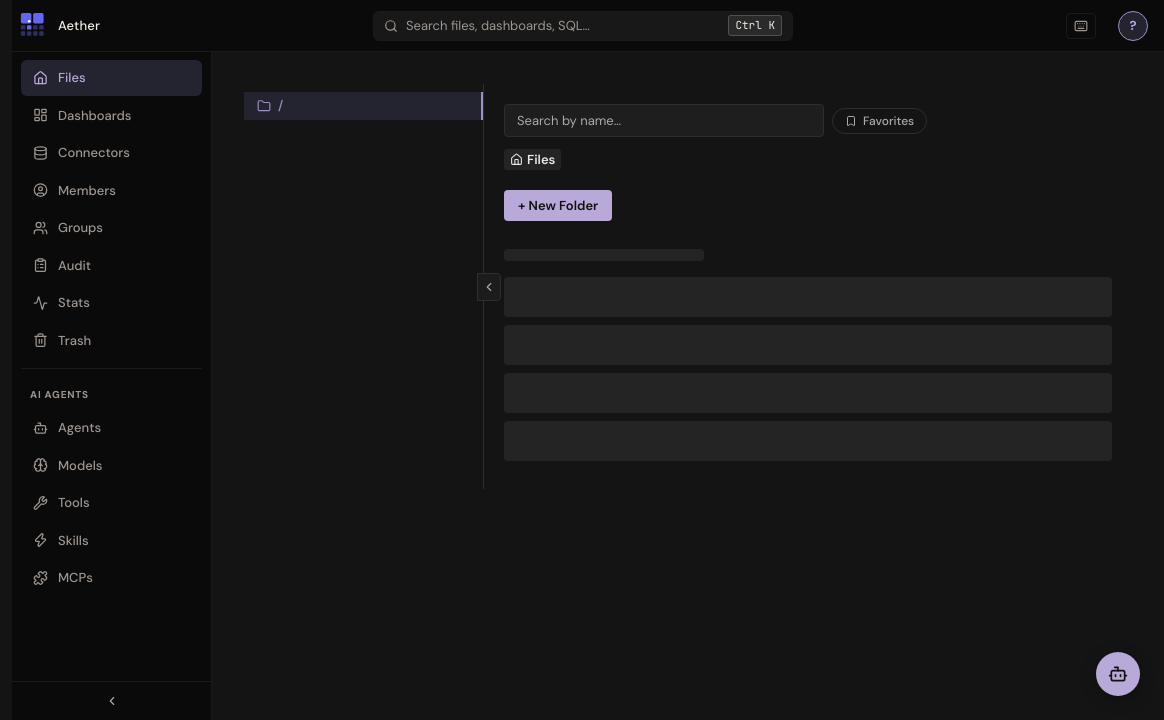
Create folder (T2.2) › inline form appears after clicking New Folder button
Click the button "+ New Folder" at (558, 206), box [504,190,612,221]
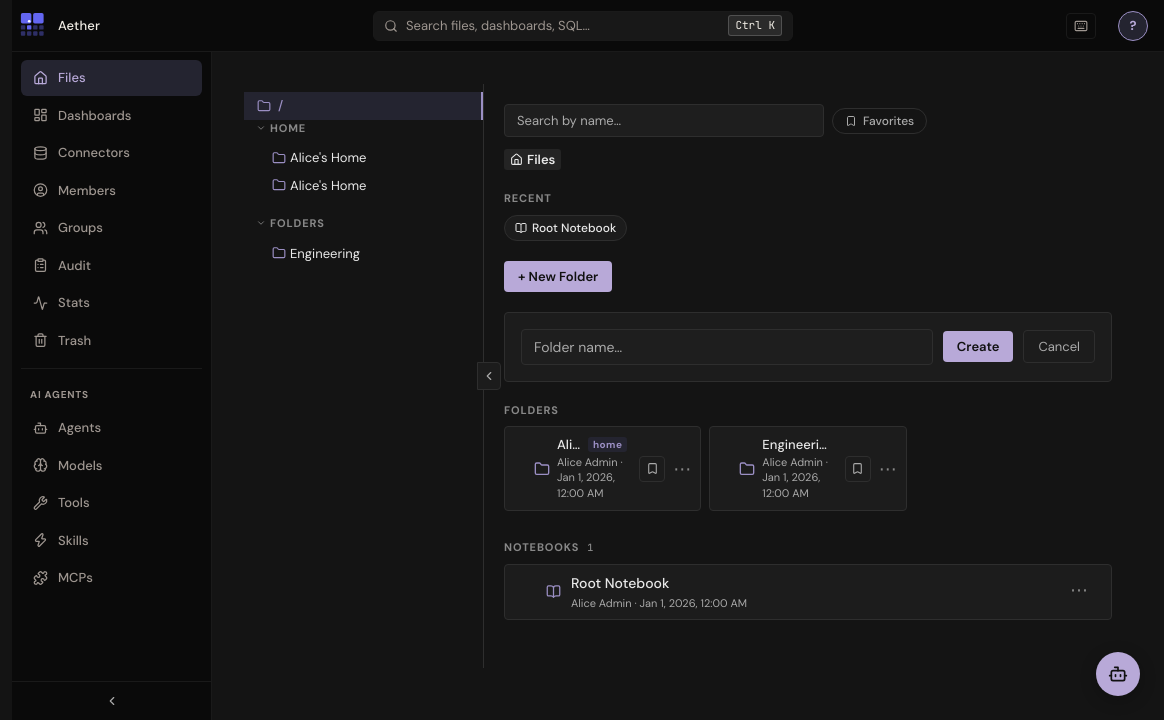
Now the field with placeholder "Folder name…" is shown, box [521,328,933,364]
